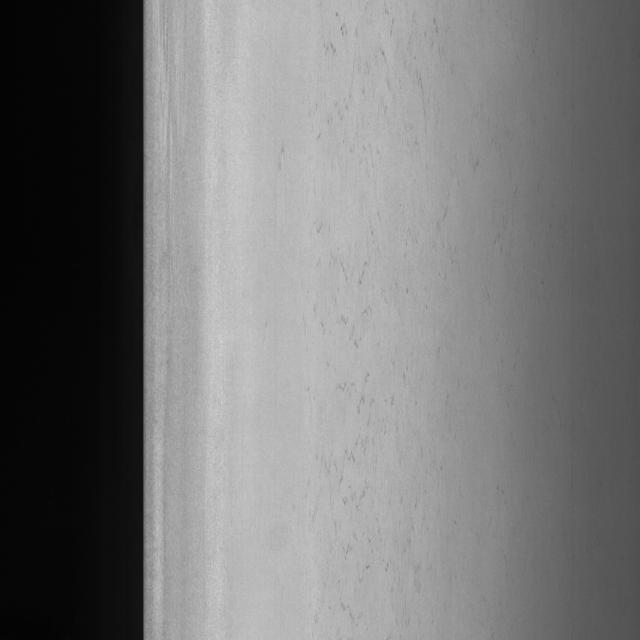inclusion: (291, 0, 471, 612)
